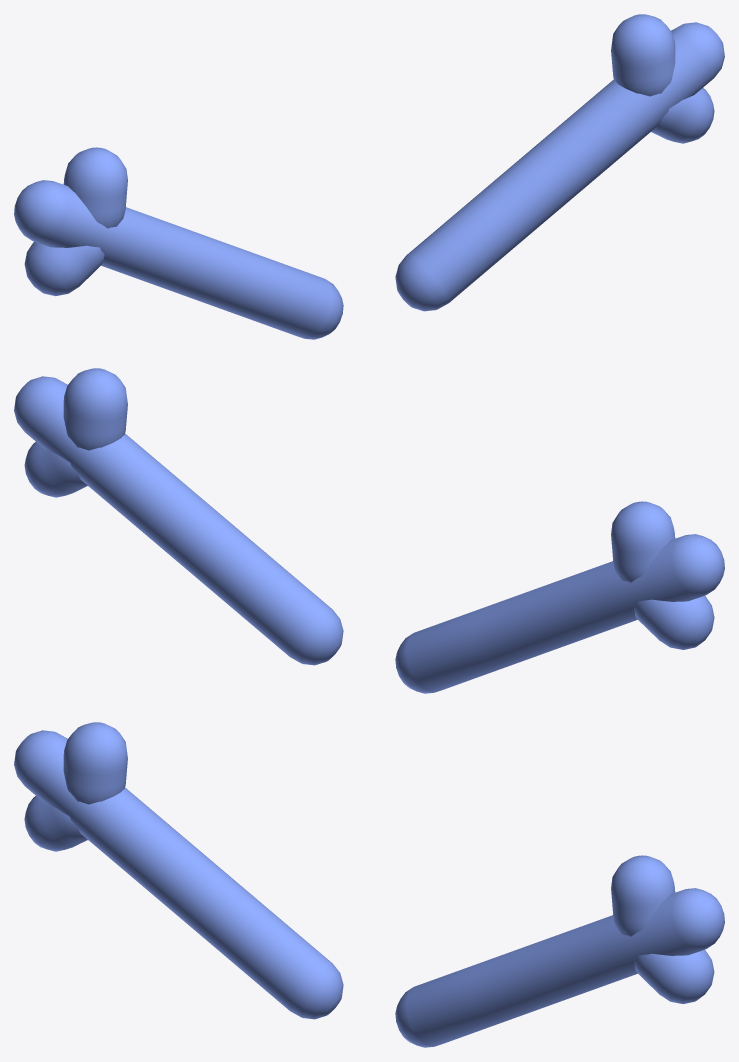
Rendered from Hands4.glb.
3 renders of one model, top to bottom at view 1: azimuth 30°, elevation 25°; view 2: azimuth 150°, elevation 25°; view 3: azimuth 330°, elevation 25°, orthographic.
Visible parts, largest first — view 1: Hands4; view 2: Hands4; view 3: Hands4.
Boxes of the visible parts, x1,y1,x2,y2 form: Hands4: [14, 14, 724, 339]; Hands4: [14, 368, 724, 693]; Hands4: [14, 722, 724, 1047].
Size of the model in its own units: 426 by 139 by 34.1.
